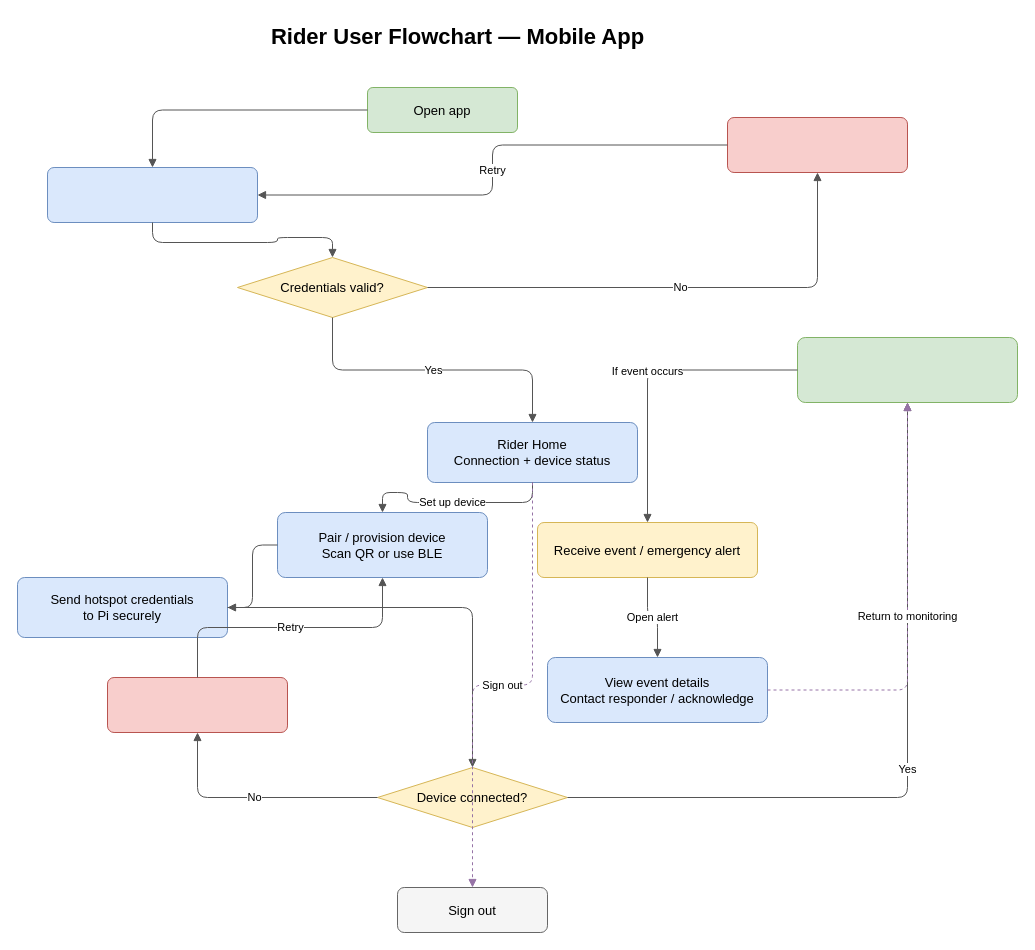
The diagram is 1035 pixels wide and 950 high, and some of its shapes have lost their labels. The box of each missing label's shape, as (x1, y1, x2, y2) in pixels:
Monitoring status Stream / recording / IMU status: (796, 336, 1018, 402)
Show setup guidance Retry pairing: (106, 676, 288, 732)
Show validation error Retry sign-in: (726, 116, 908, 172)
Sign in / Create account: (46, 166, 258, 222)
